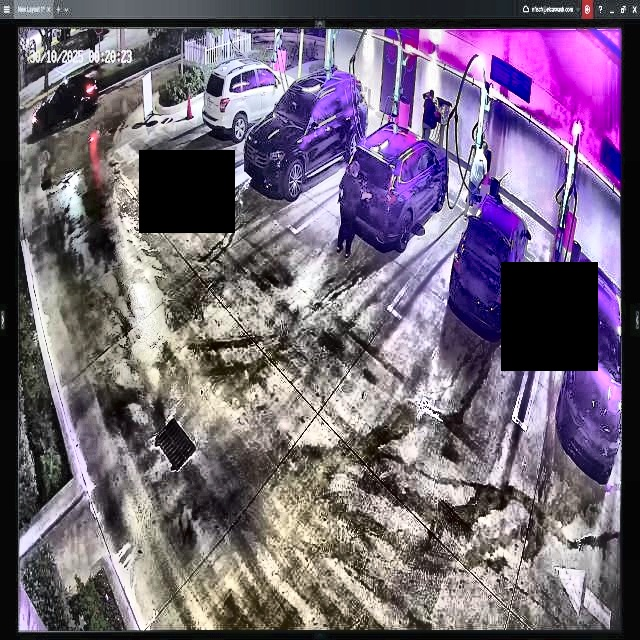Car: (244, 73, 367, 199), (343, 122, 448, 253), (448, 191, 529, 335)
